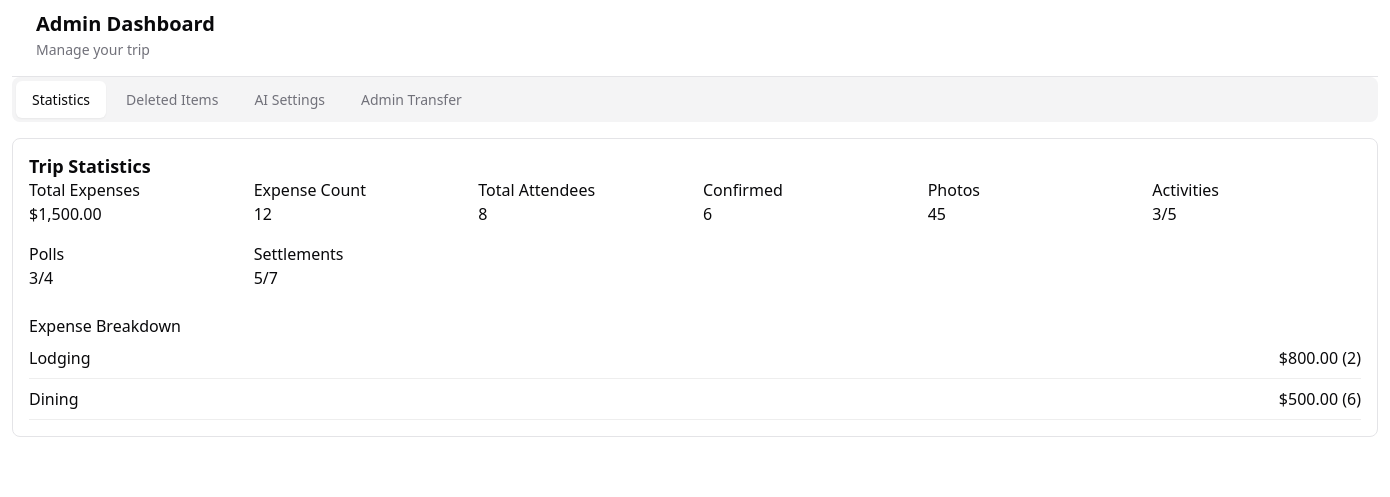
Test: AdminPage › tab navigation › should switch between tabs
Expected: the tab "Statistics" is shown, x1=16 y1=81 x2=106 y2=118
Note: Switch to deleted items tab
Step 1. Click the tab "Deleted Items" → [172, 100], box x1=110 y1=81 x2=234 y2=118
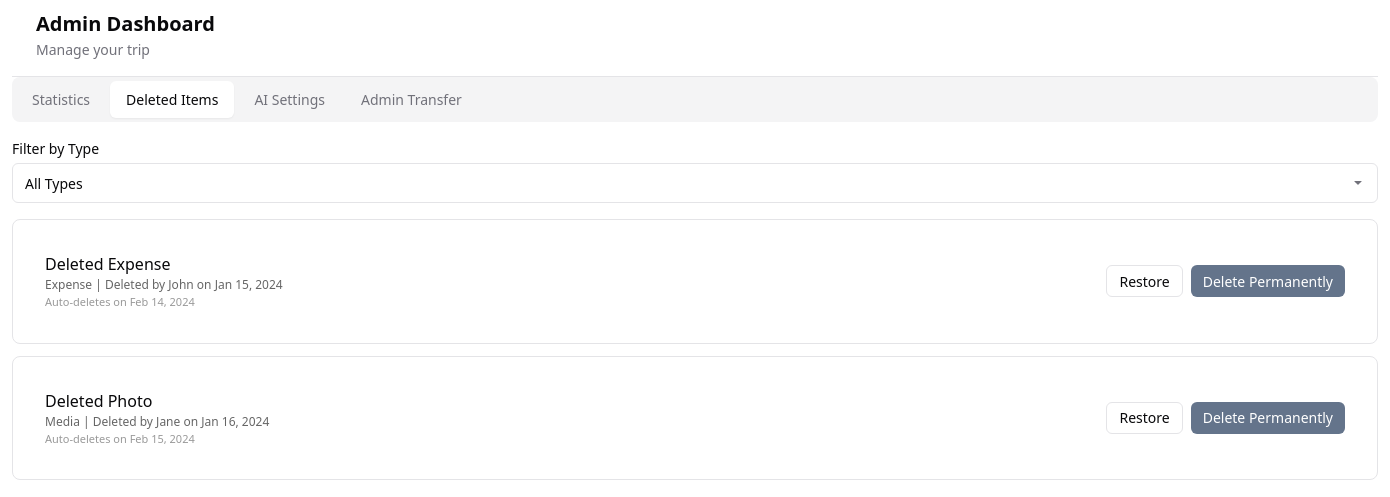
Expected: the element with test id "deleted-items-section" is shown
Note: Switch to admin transfer tab
Step 2. Click the tab "Admin Transfer" → [411, 100], box x1=345 y1=81 x2=478 y2=118
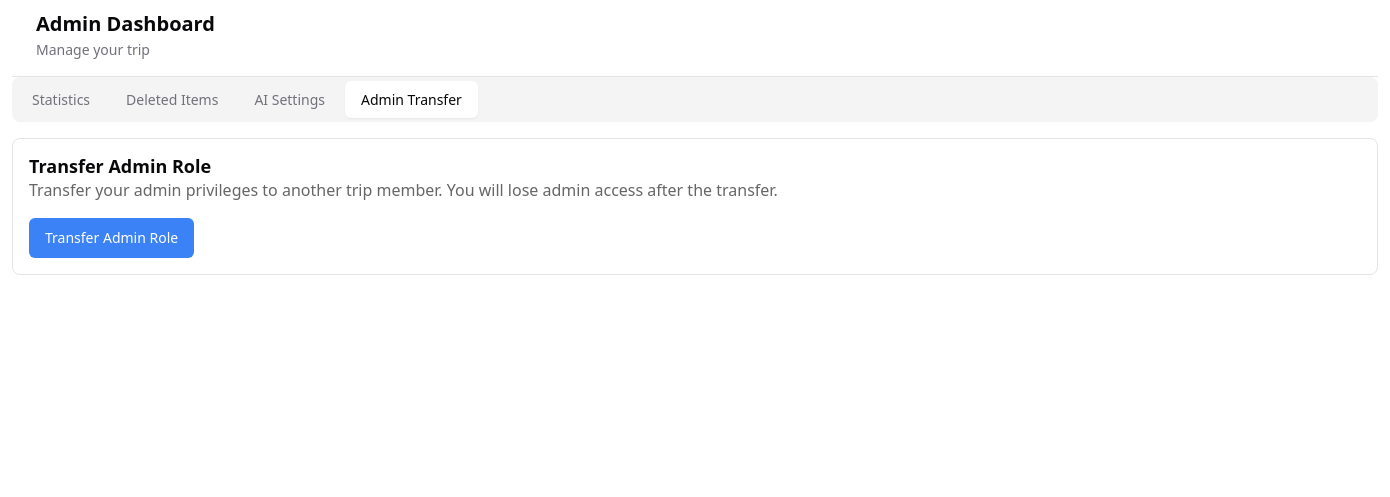
Expected: the element with test id "admin-transfer-section" is shown, x1=12 y1=138 x2=1378 y2=274
